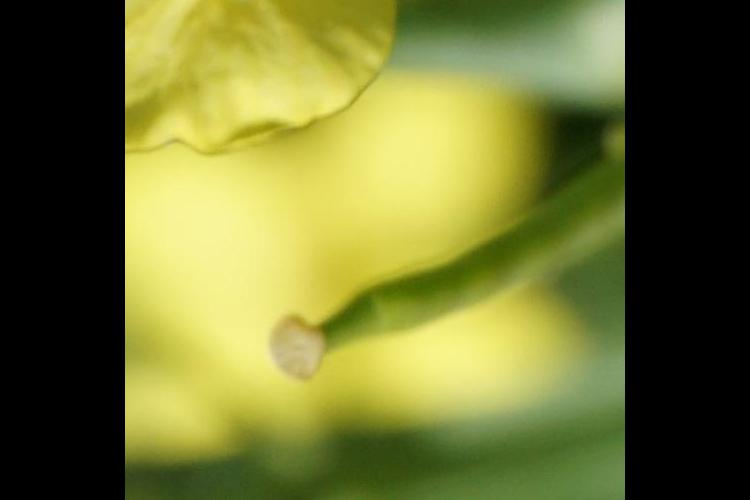pod: (248, 192, 598, 394)
